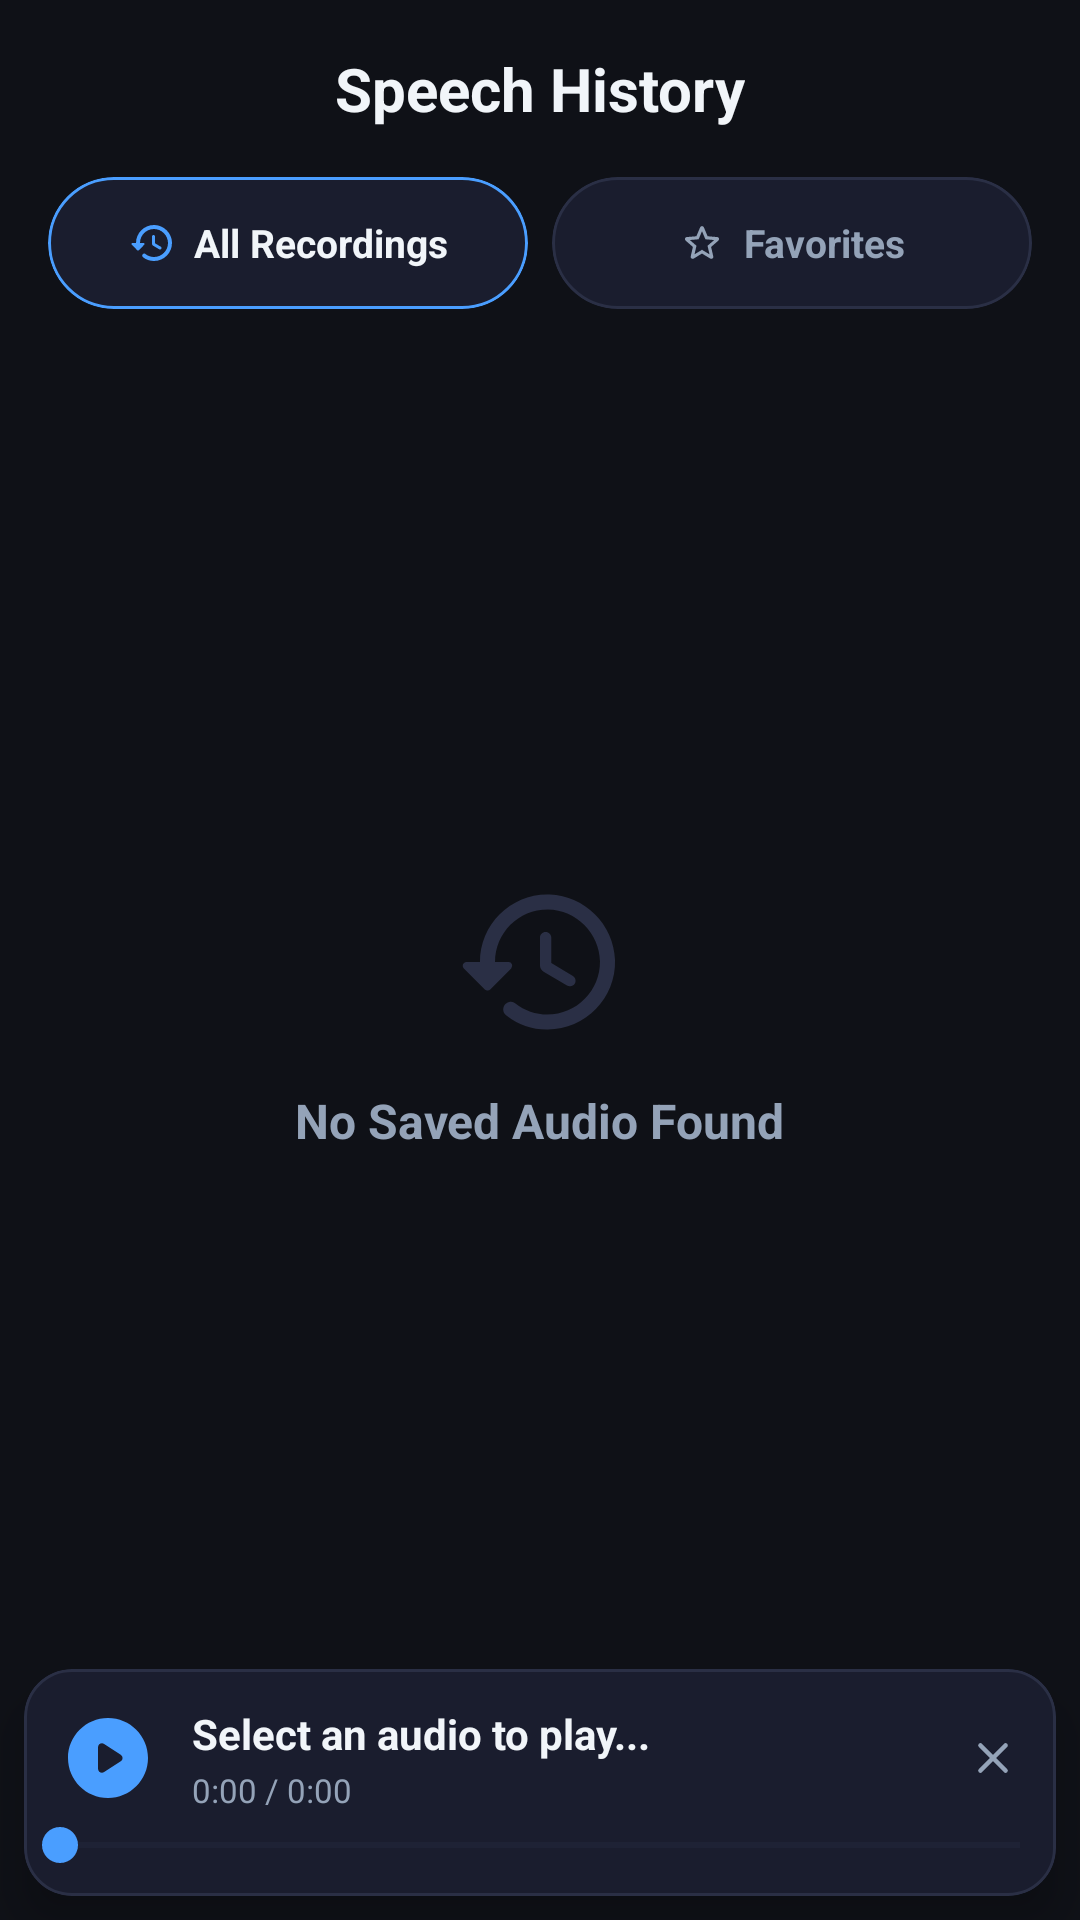

Named icons in this screenshot (1080 x 1920) and their bounding boxes, [x1, y1, x2, y2]:
close: [978, 1743, 1008, 1773]
history: [131, 225, 172, 261], [463, 895, 615, 1029]
play circle: [68, 1718, 148, 1798]
